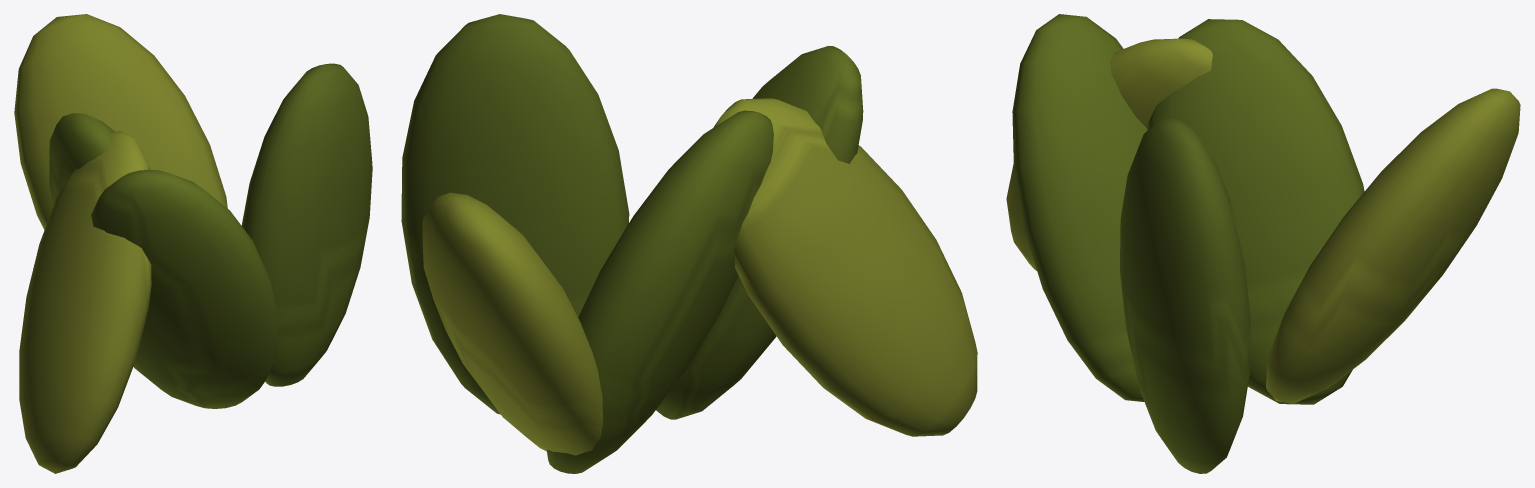
Rendered from Foliage_0.fbx.
The picture shows the model from 3 angles, left to right: view 1: azimuth 30°, elevation 25°; view 2: azimuth 150°, elevation 25°; view 3: azimuth 270°, elevation 25°; orthographic projection. The views are drawn at different scales.
Visible parts, largest first — view 1: Foliage_0; view 2: Foliage_0; view 3: Foliage_0.
Part boxes in pixels (left/top/right/bottom): Foliage_0: left=14, top=14, right=372, bottom=473; Foliage_0: left=401, top=14, right=977, bottom=473; Foliage_0: left=1006, top=14, right=1520, bottom=473.
Size of the model in its own units: 43.58 by 33.78 by 43.66.
Materials: 1 (1 with a texture image).
